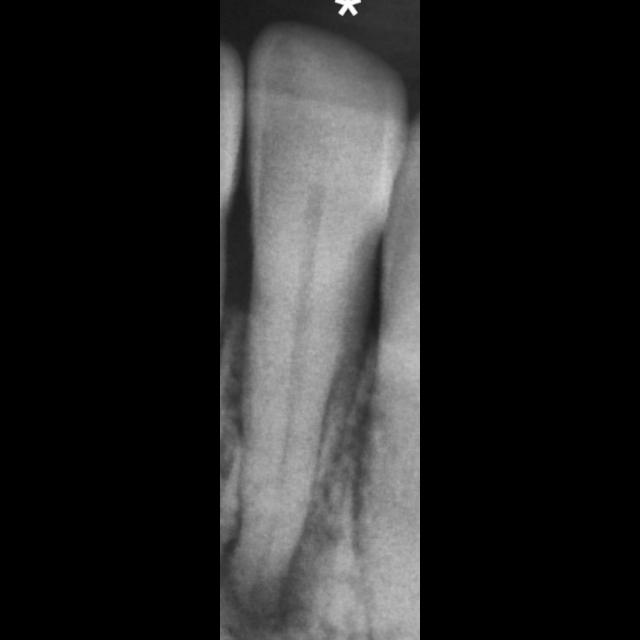tooth: (228, 18, 409, 614)
